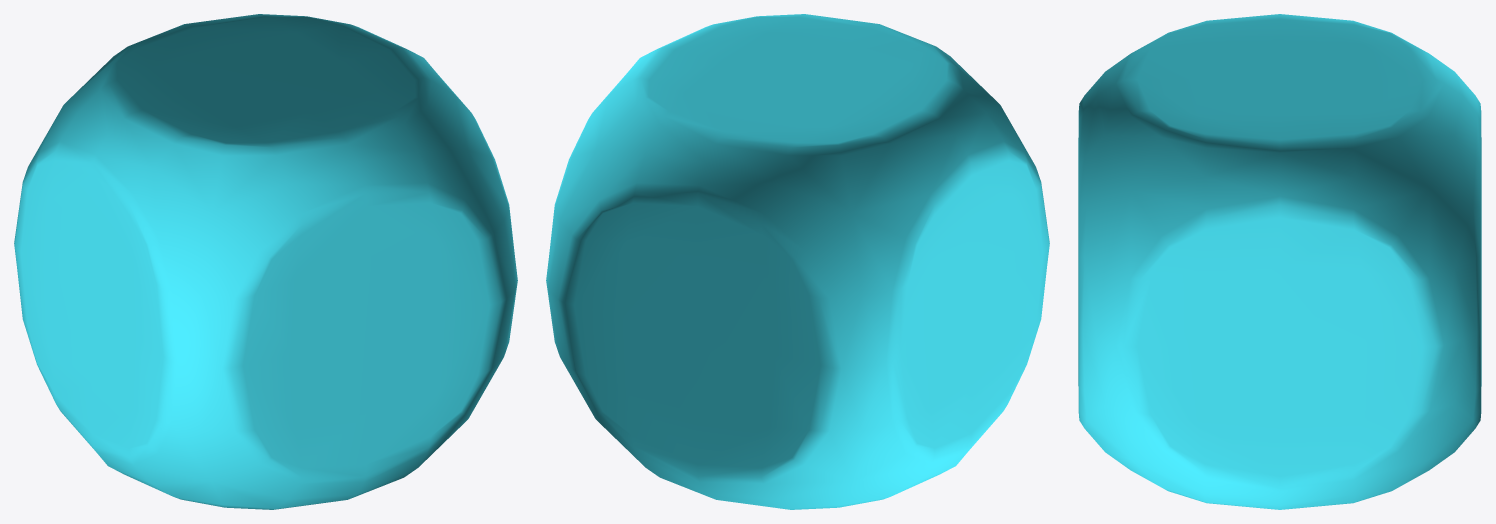
The model's file is Dice.fbx.
3 views of the same model, side by side, from view 1: azimuth 30°, elevation 25°; view 2: azimuth 150°, elevation 25°; view 3: azimuth 270°, elevation 25° (orthographic).
Visible parts, largest first — view 1: Node 0; view 2: Node 0; view 3: Node 0.
Part boxes in pixels (x1,y1,x2,y2): Node 0: [14, 14, 517, 509]; Node 0: [546, 14, 1049, 509]; Node 0: [1078, 14, 1481, 509].
Size of the model in its own units: 0.1468 by 0.1468 by 0.1468.
